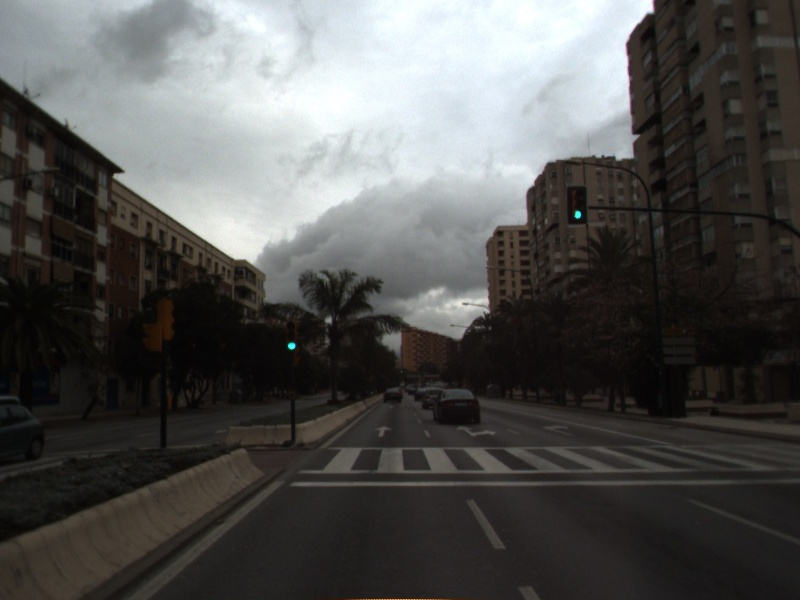RIGHT: (539, 422, 575, 438)
STRAIGHT: (372, 424, 395, 439)
STRAIGHT_RIGHT: (454, 422, 499, 439)
